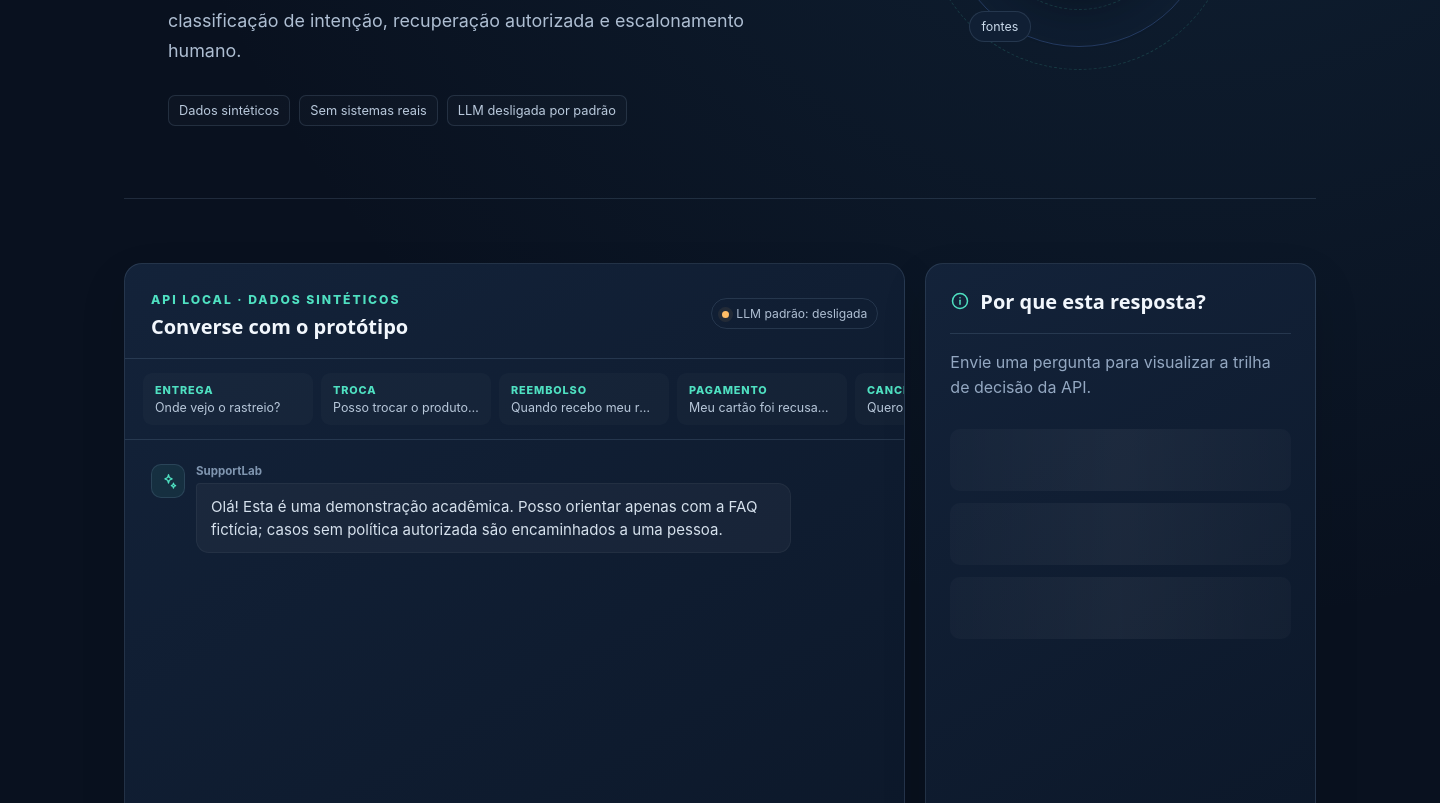
it: App › shows an unavailable API state
The width and height of the screenshot is (1440, 803).
(page scrolled)
Click the button "Pagamento Meu cartão foi recusado mesmo com limite" at (762, 398), box [677, 372, 847, 424]
(page scrolled)
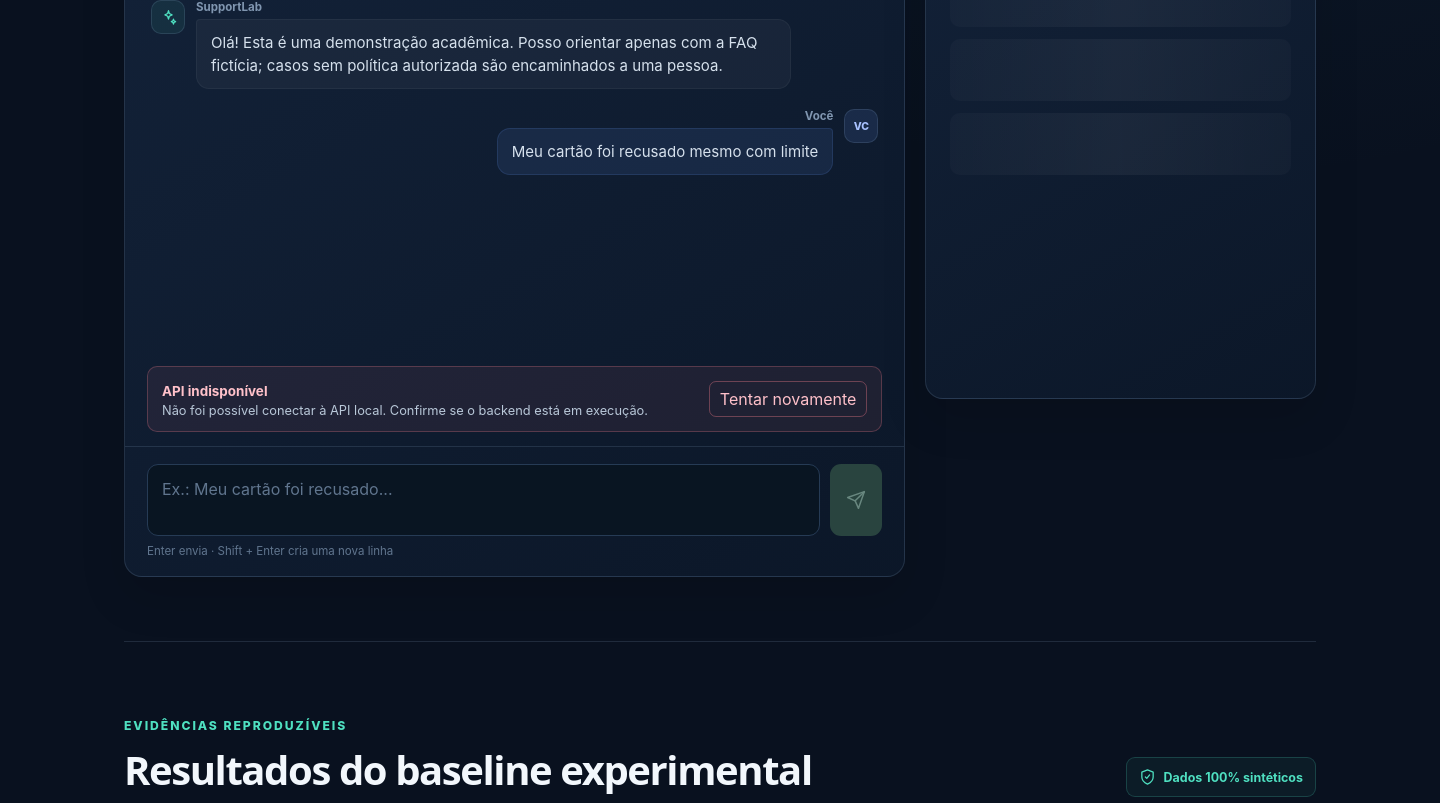
Check: the message shows "API indisponível", box [162, 382, 268, 398]
Check: the button "Tentar novamente" is shown, box [709, 380, 867, 416]
